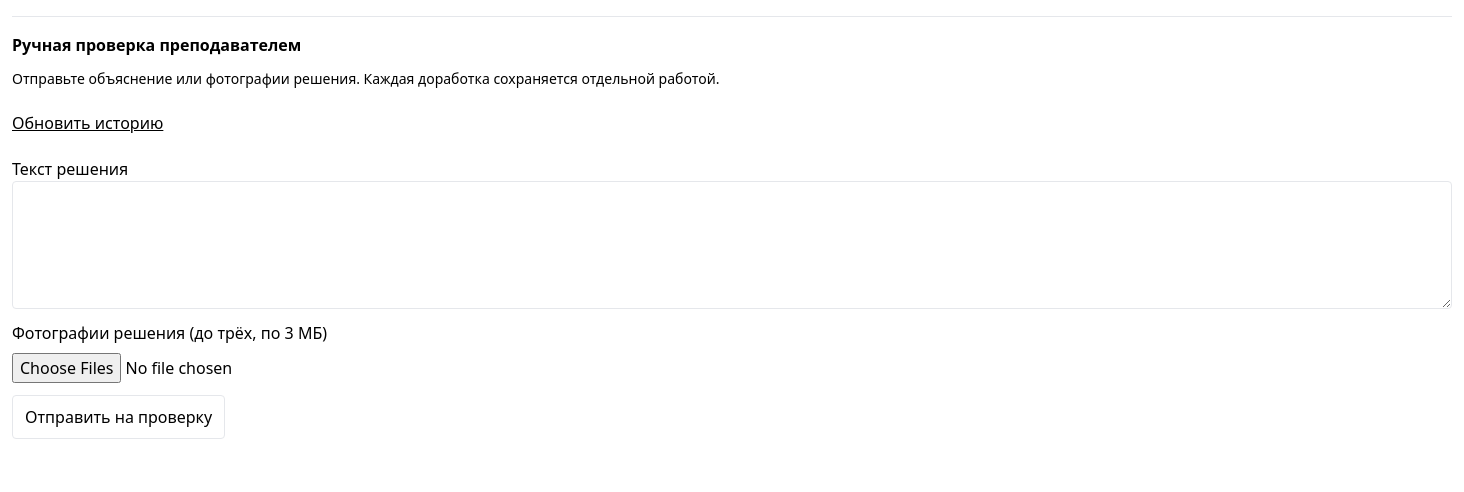
Test: blocks empty submissions and duplicate clicks while sending
The image size is (1464, 492).
Check: the text box labelled "Текст решения" is shown, box [12, 181, 1452, 309]
Click the button "Отправить на проверку" at (119, 417), box [12, 395, 225, 439]
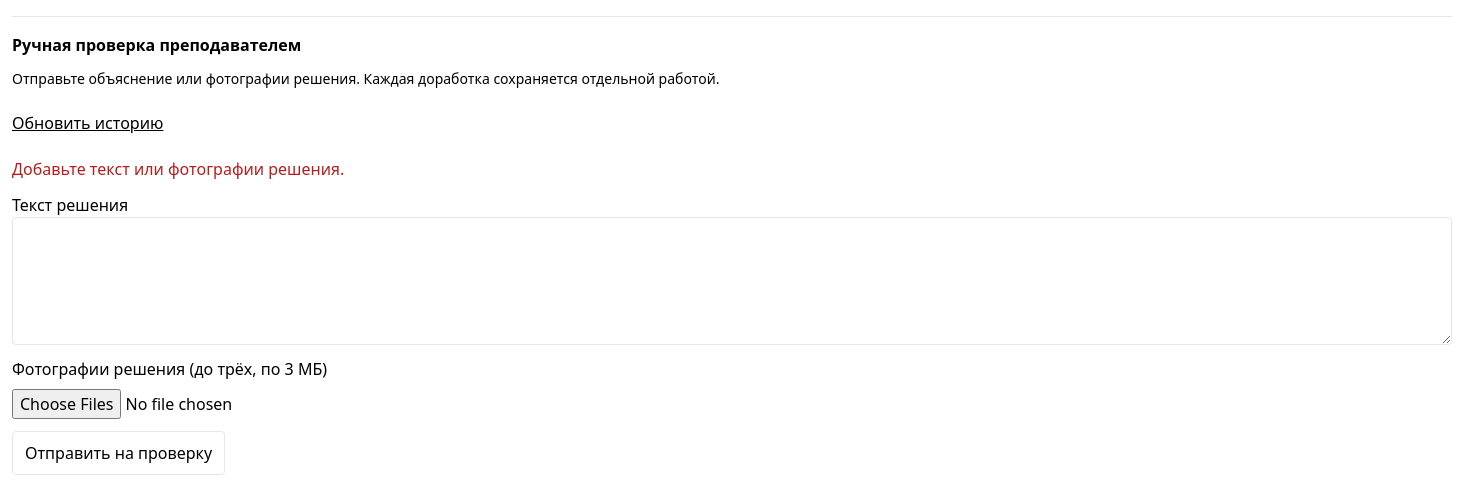
Check: the text "Добавьте текст или фотографии решения." is shown, box [12, 158, 344, 180]
Type "Ответ" into the text box labelled "Текст решения" at (732, 281), box [12, 217, 1452, 345]
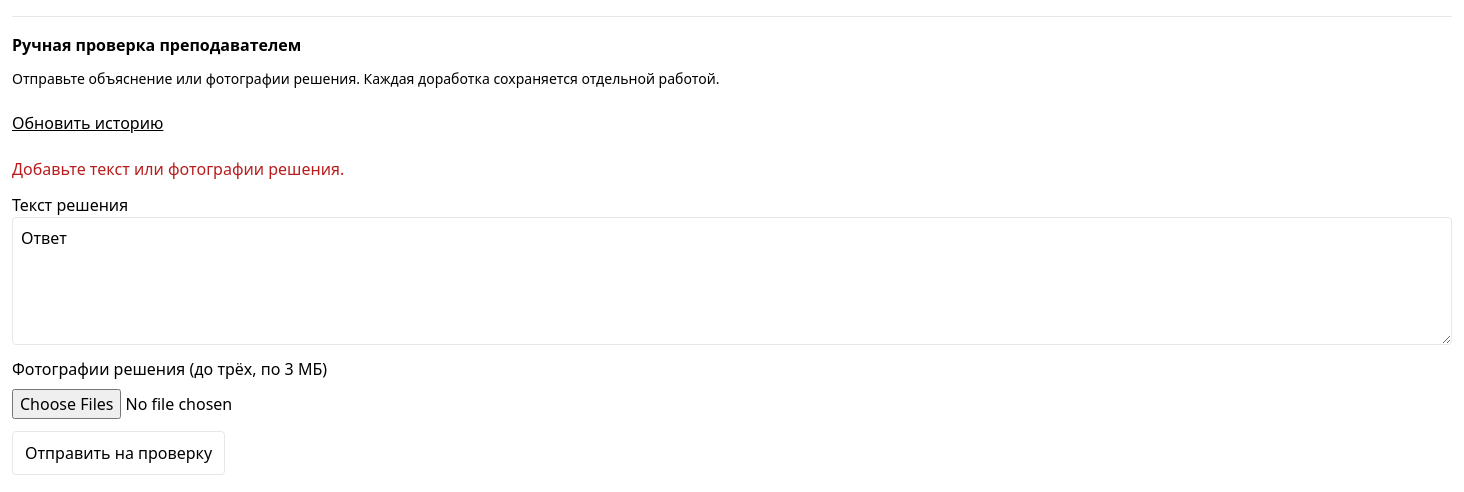
Click the button "Отправить на проверку" at (119, 453), box [12, 431, 225, 475]
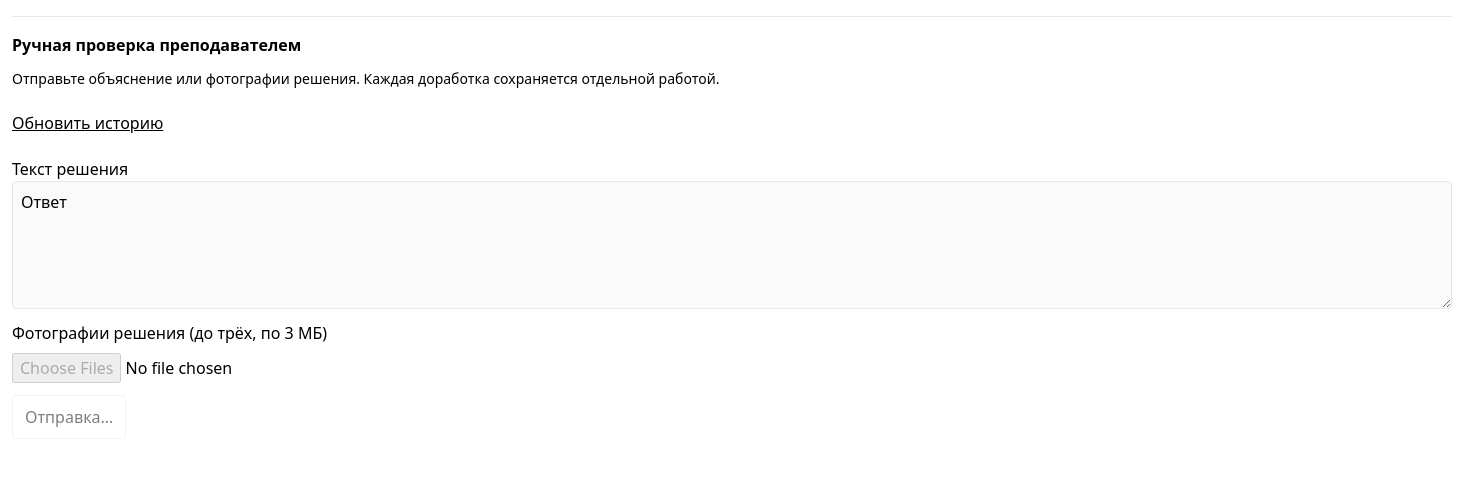
Click the button "Отправка…" at (69, 417), box [12, 395, 126, 439]
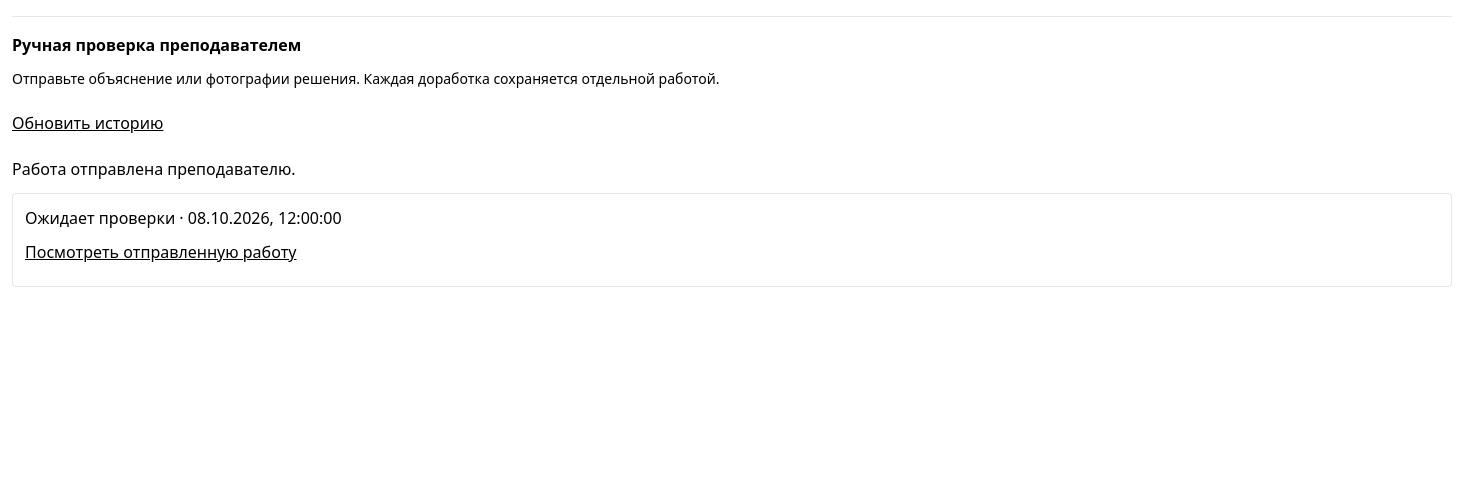
Check: the text "Работа отправлена преподавателю." is shown, box [12, 158, 296, 180]
